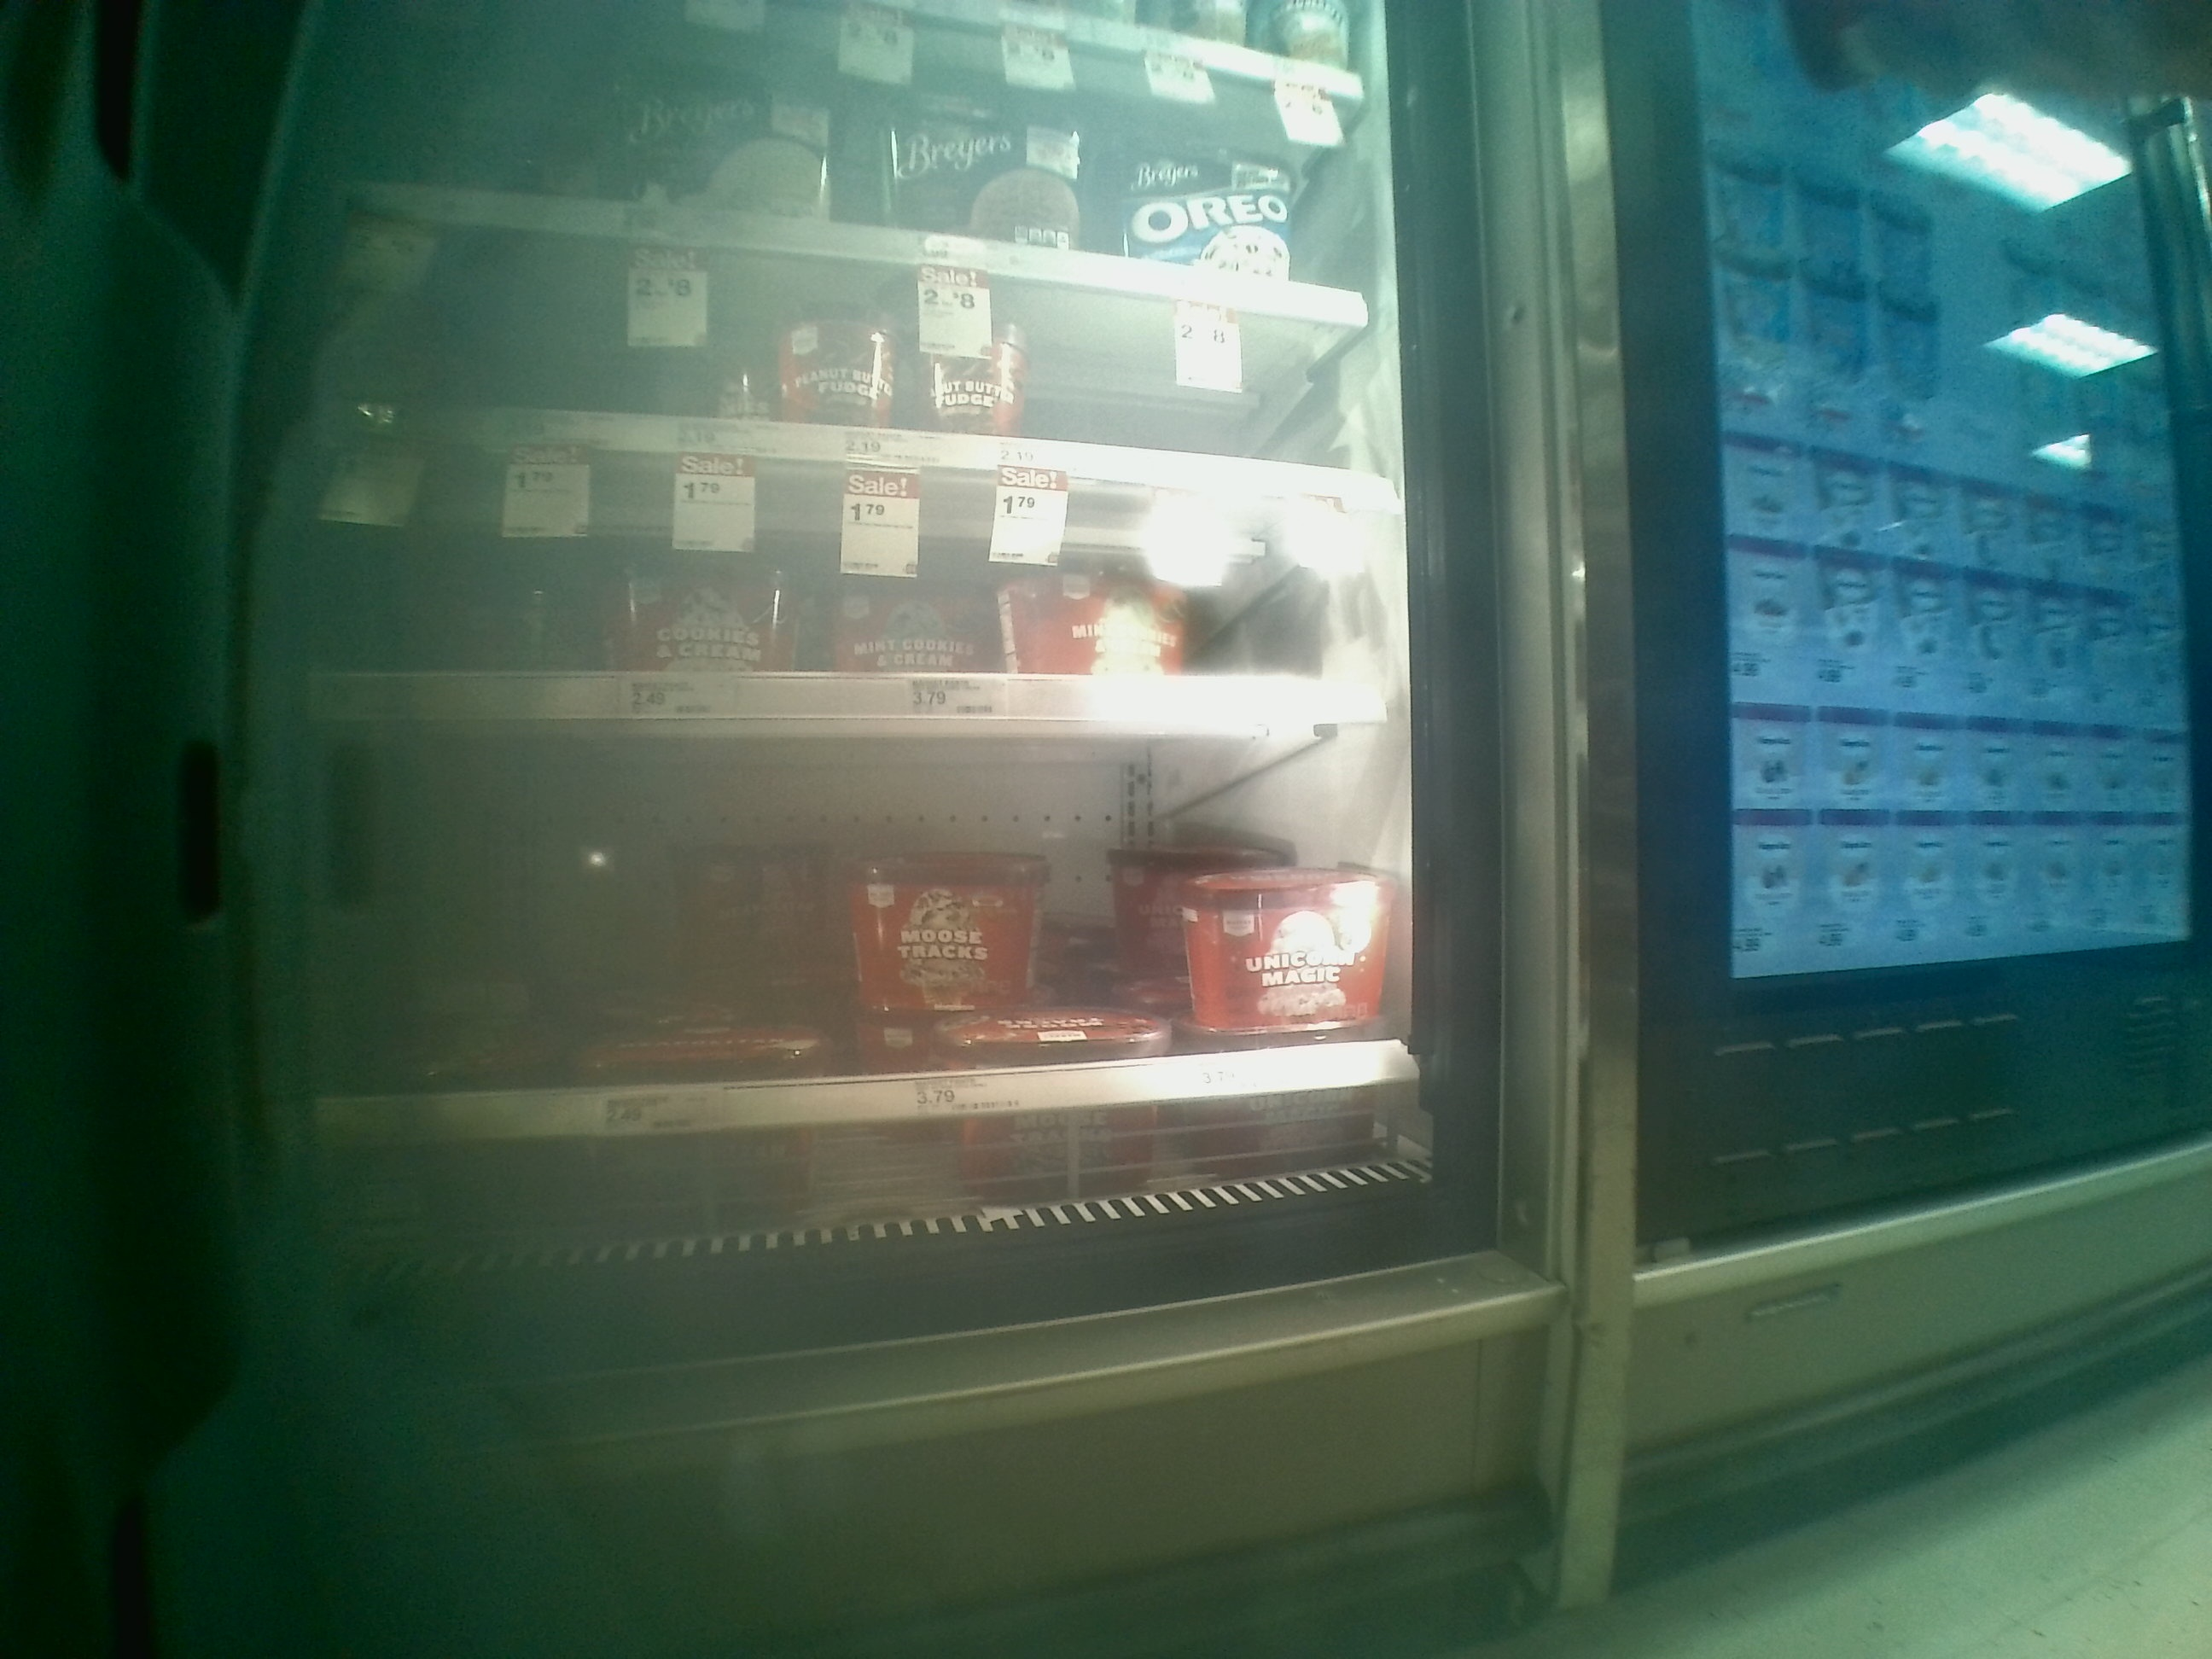shelf: (298, 727, 1420, 1213), (303, 441, 1413, 727)
